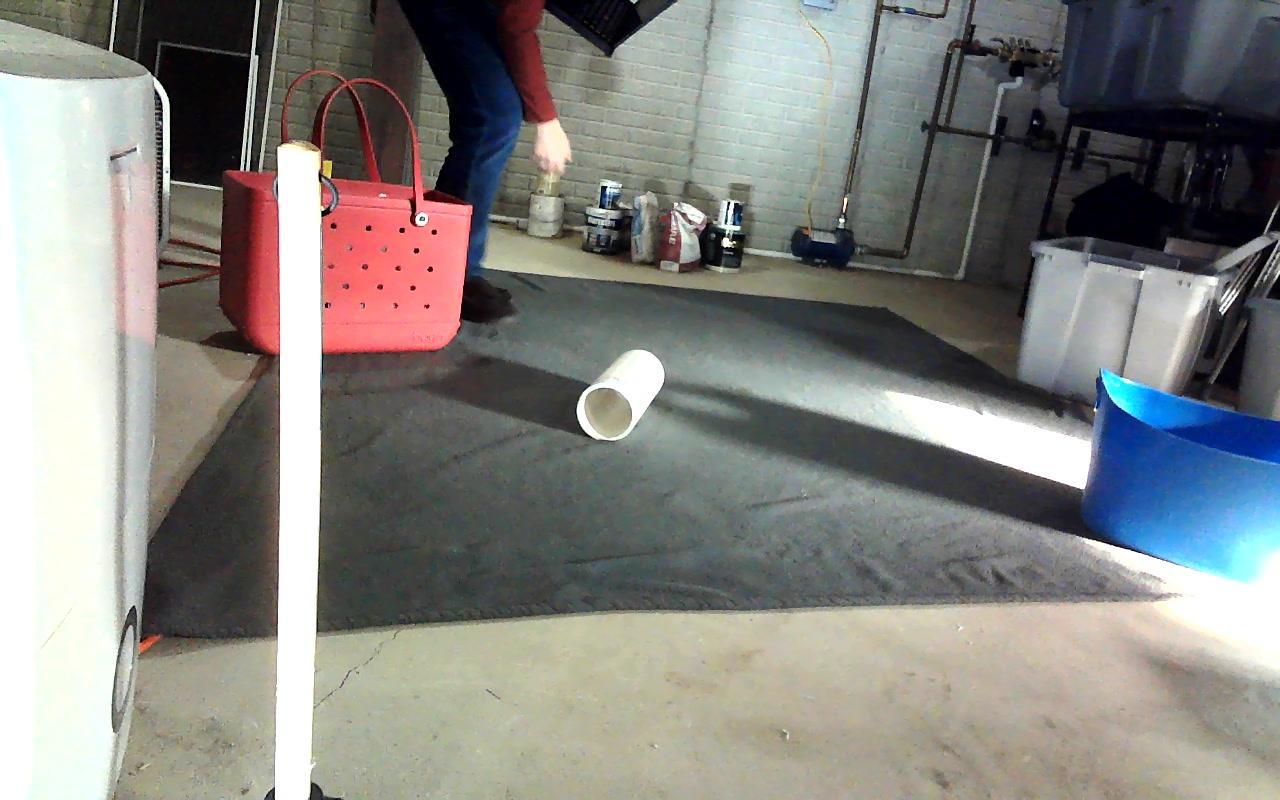coral: (577, 351, 664, 440)
